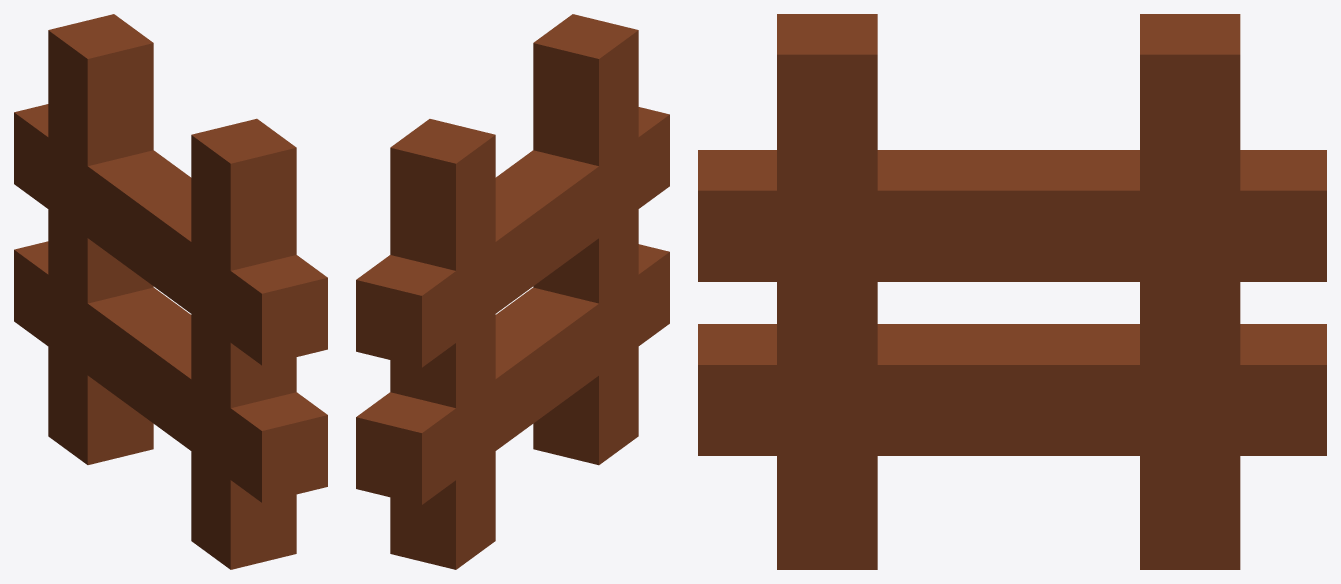
File: Fence.fbx
3 renders of one model, left to right at view 1: azimuth 30°, elevation 25°; view 2: azimuth 150°, elevation 25°; view 3: azimuth 270°, elevation 25°, orthographic. The views are drawn at different scales.
Parts seen in each view (by area): view 1: Cube.004, Cube.003, Cube.002, Cube.001; view 2: Cube.002, Cube.001, Cube.003, Cube.004; view 3: Cube.003, Cube.004, Cube.001, Cube.002.
Part boxes in pixels (x1,y1,x2,y2): Cube.004: [14, 241, 327, 502]; Cube.003: [14, 104, 327, 365]; Cube.002: [48, 14, 153, 464]; Cube.001: [191, 118, 296, 569]; Cube.002: [390, 119, 495, 569]; Cube.001: [533, 14, 638, 465]; Cube.003: [356, 107, 669, 367]; Cube.004: [356, 244, 669, 504]; Cube.003: [698, 150, 1326, 281]; Cube.004: [698, 324, 1326, 455]; Cube.001: [777, 14, 877, 569]; Cube.002: [1140, 14, 1240, 569].
Bounding box in the file's own units: 15.36 × 90.38 × 100.
